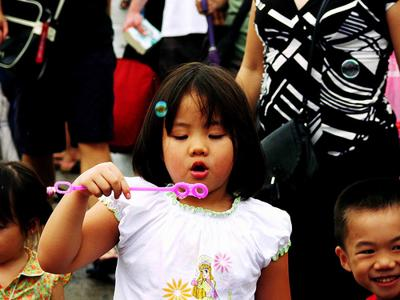person: (37, 61, 298, 300)
